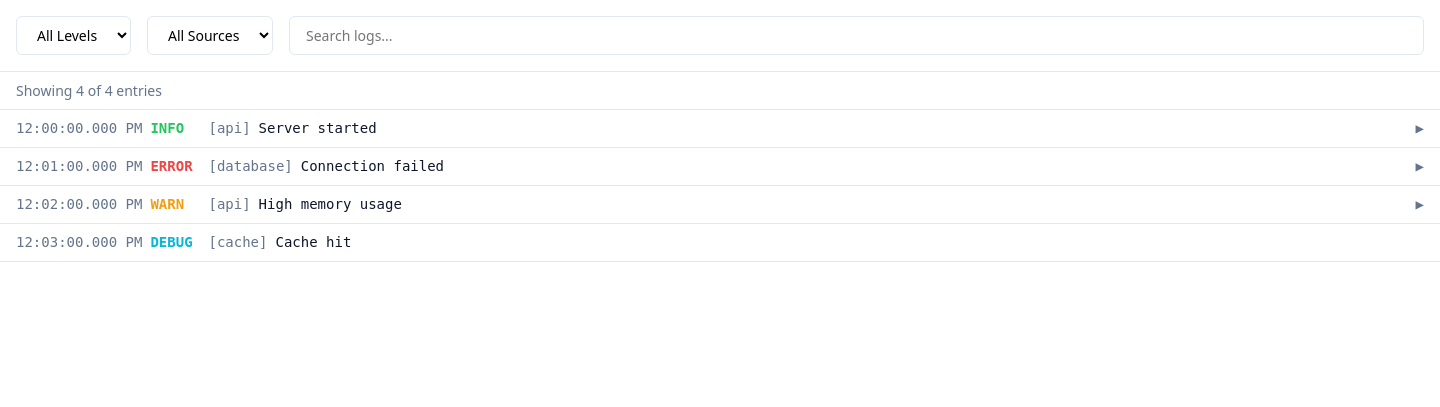
LogViewer › expands and collapses log entry with metadata
The width and height of the screenshot is (1440, 407).
Check: the text "Metadata:" is not shown
Click the button "Server started".
click(79, 128)  # box [0,110,1439,148]
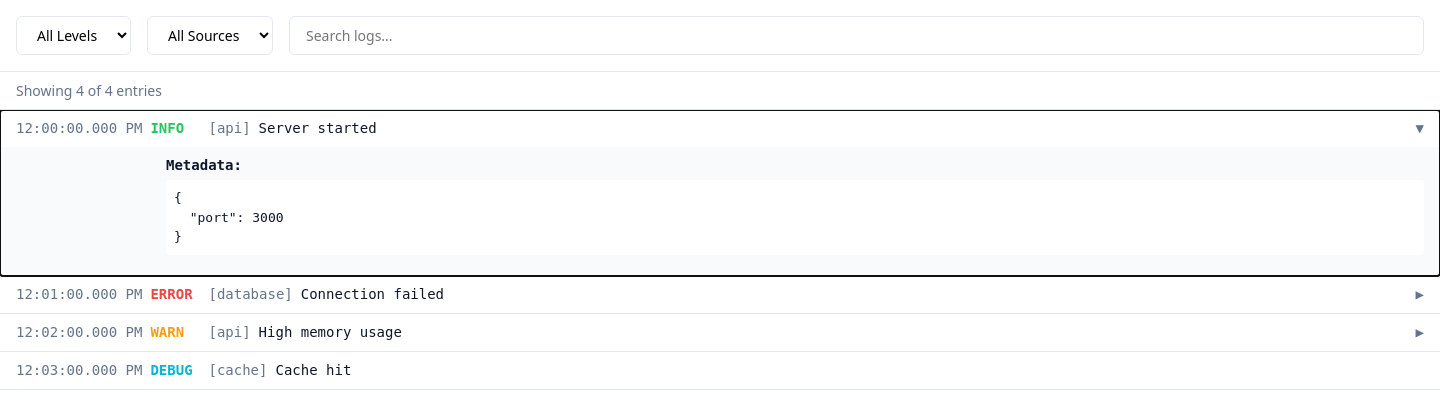
Check: the text "Metadata:" is shown, box [166,157,242,173]
Check: the text "{ \"port\": 3000 }" is shown, box [166,180,1424,254]
Click the button "Server started".
click(720, 193)  # box [0,110,1439,276]
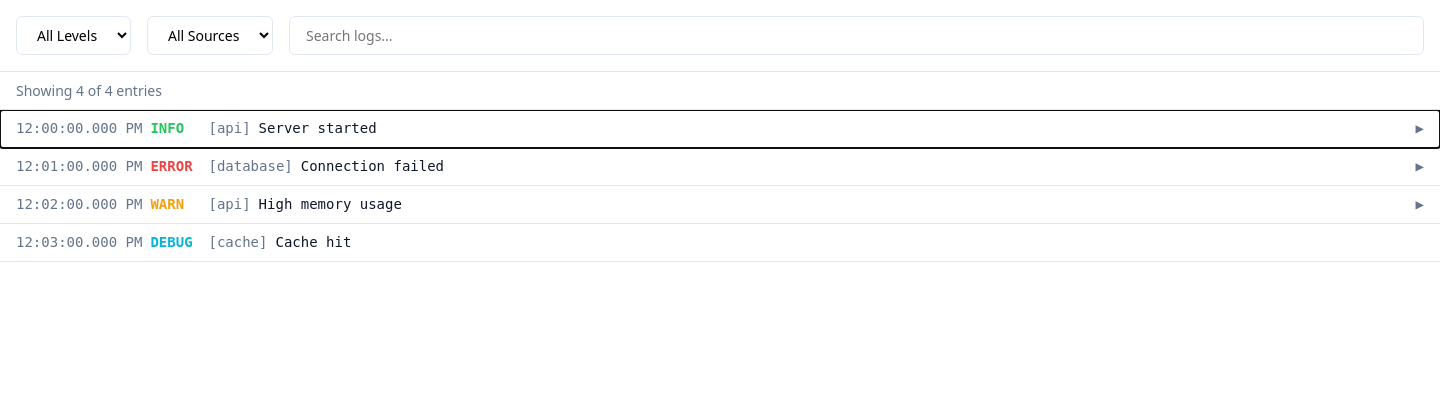
Check: the text "Metadata:" is gone
